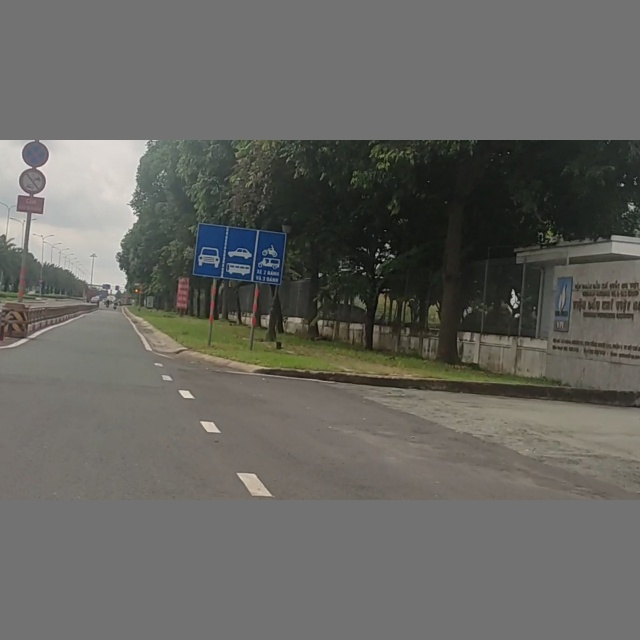P.111: (18, 169, 47, 193)
P.130: (20, 141, 49, 167)
R.415a: (191, 220, 284, 286)
